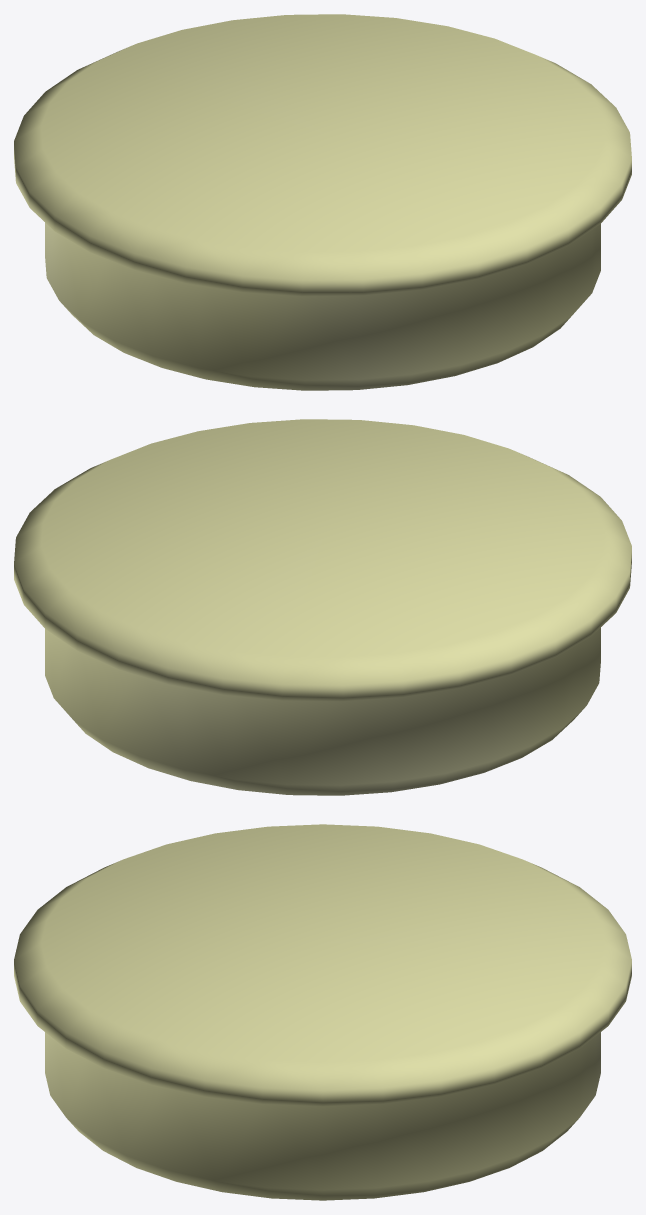
Rendered from SocketCableOutput.fbx.
3 renders of one model, top to bottom at view 1: azimuth 30°, elevation 25°; view 2: azimuth 150°, elevation 25°; view 3: azimuth 270°, elevation 25°, orthographic.
Parts seen in each view (by area): view 1: SocketCableOutput; view 2: SocketCableOutput; view 3: SocketCableOutput.
Part boxes in pixels (left/top/right/bottom): SocketCableOutput: left=14, top=14, right=631, bottom=390; SocketCableOutput: left=14, top=419, right=631, bottom=795; SocketCableOutput: left=14, top=824, right=631, bottom=1200.
Bounding box in the file's own units: 1 × 0.26 × 1.
